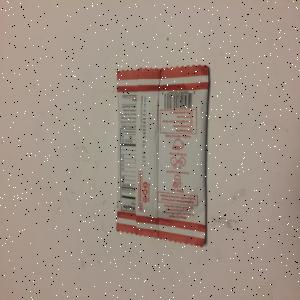Trash: (117, 63, 210, 249)
